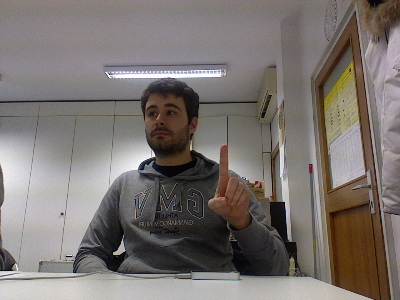食指: (206, 142, 251, 223)
